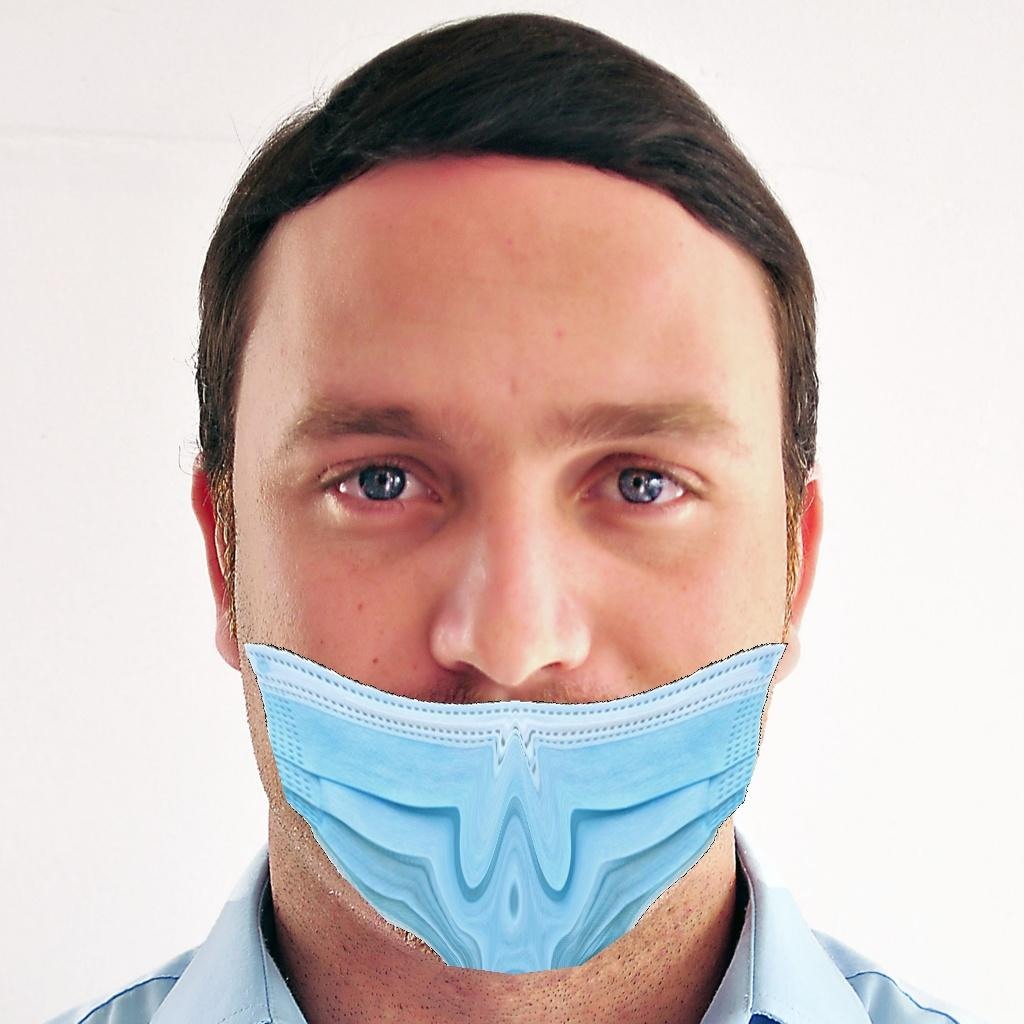Máscara Incorreta: (230, 330, 798, 927)
